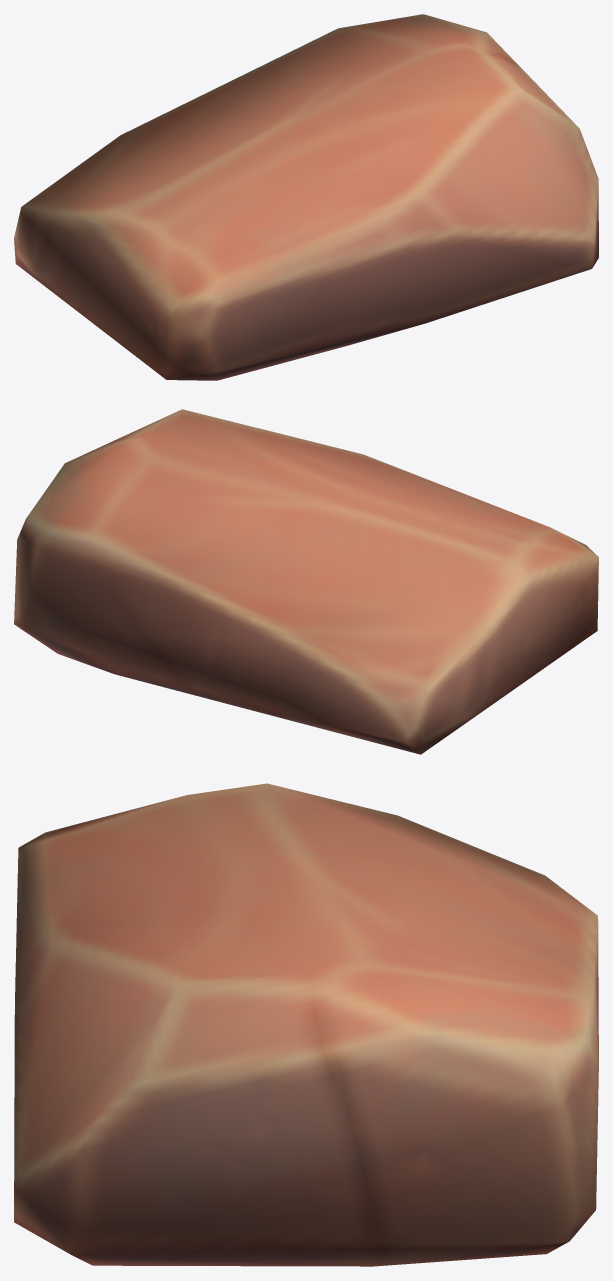
File: SM_Gem_Copper_Piece_002.fbx
3 views of the same model, one above another, from view 1: azimuth 30°, elevation 25°; view 2: azimuth 150°, elevation 25°; view 3: azimuth 270°, elevation 25° (orthographic). The views are drawn at different scales.
Parts seen in each view (by area): view 1: SM_Gem_Copper_Piece_002; view 2: SM_Gem_Copper_Piece_002; view 3: SM_Gem_Copper_Piece_002.
Part boxes in pixels (<box>): SM_Gem_Copper_Piece_002: <box>14,14,598,380</box>; SM_Gem_Copper_Piece_002: <box>14,409,598,754</box>; SM_Gem_Copper_Piece_002: <box>14,783,598,1266</box>.
Bounding box in the file's own units: 21.93 × 8.8 × 16.41.
